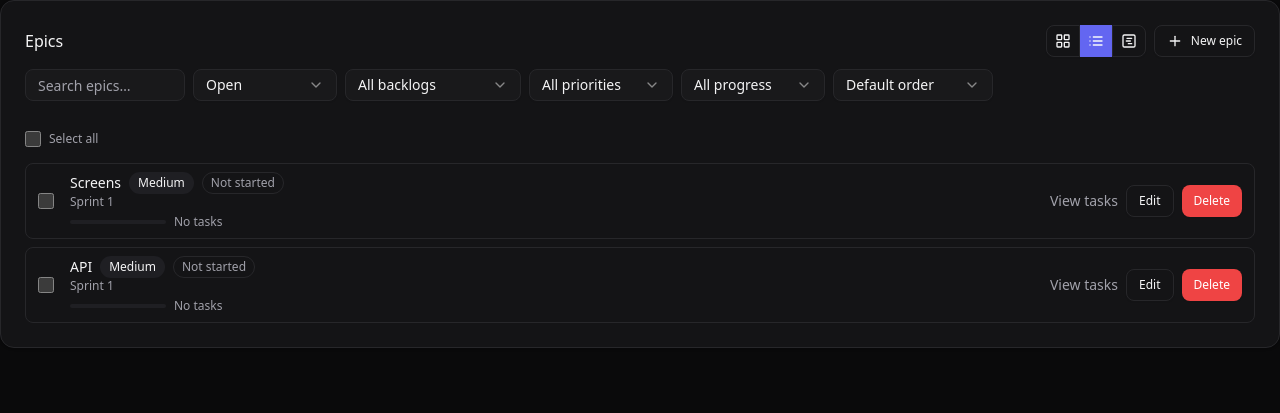
the status filter › Bulk actions › selects every visible epic at once
The image size is (1280, 413).
Click the checkbox named "Select all epics": (33, 139) [25,131,41,147]
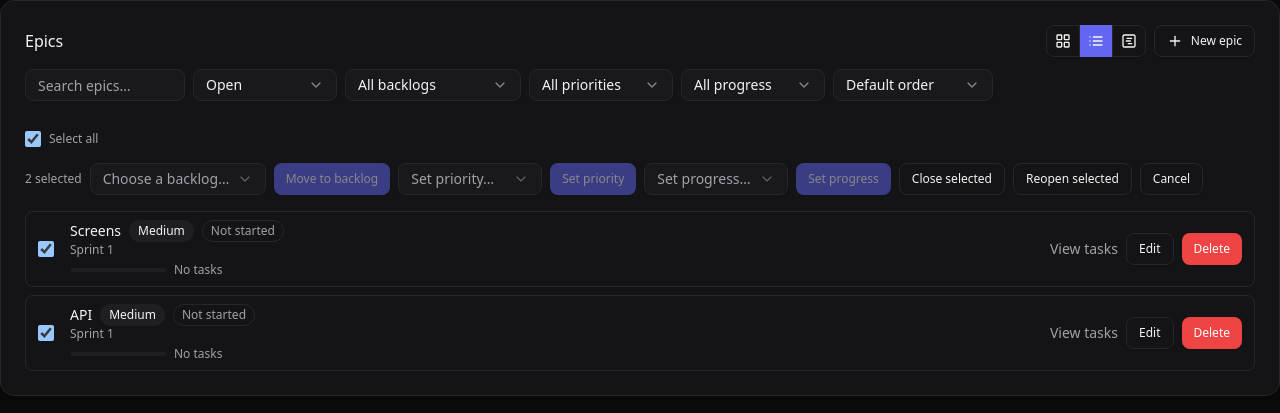
Now the text "2 selected" is shown, box [25,171,82,187]
